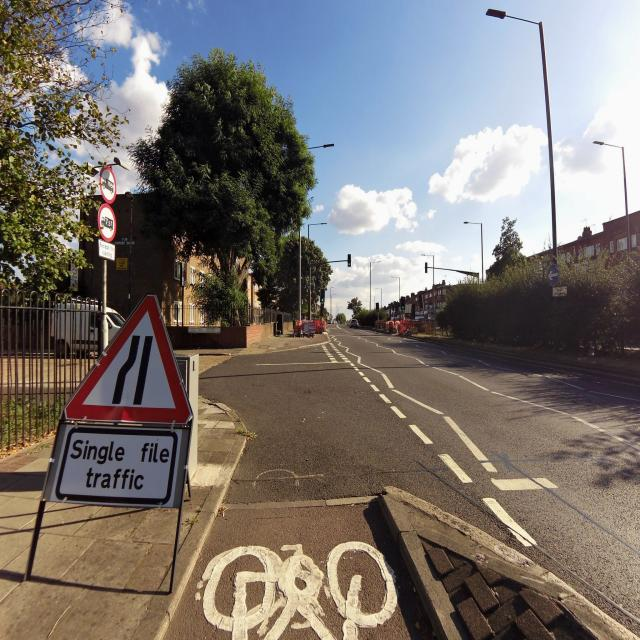car: (349, 318, 360, 329)
